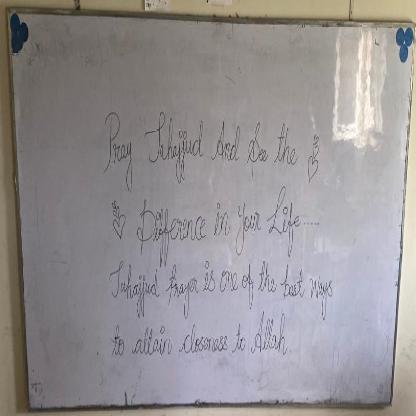Handwritten text: (100, 103, 297, 185), (100, 253, 338, 316), (134, 184, 300, 256), (95, 309, 290, 370)
Whiteboard: (0, 10, 415, 416)
